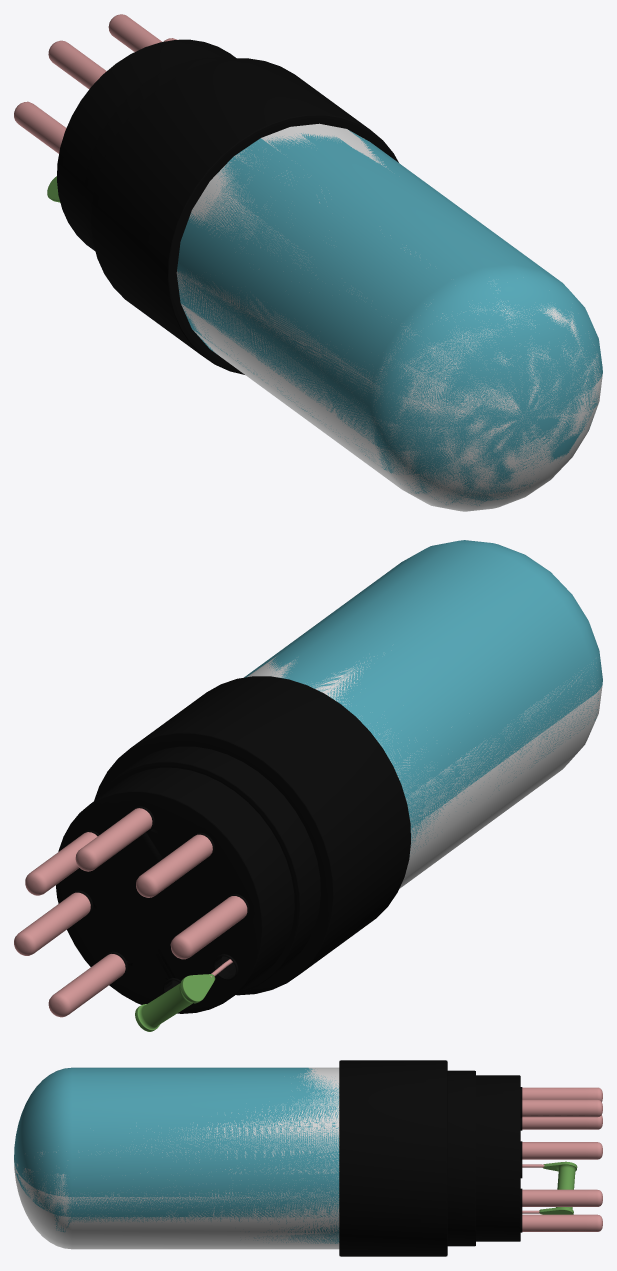
3 renders of one model, top to bottom at view 1: azimuth 30°, elevation 25°; view 2: azimuth 150°, elevation 25°; view 3: azimuth 270°, elevation 25°, orthographic. The views are drawn at different scales.
Visible parts, largest first — view 1: tube6_LOD0, tube6glass_LOD0; view 2: tube6_LOD0, tube6glass_LOD0; view 3: tube6_LOD0, tube6glass_LOD0.
Boxes of the visible parts, x1,y1,x2,y2 form: tube6_LOD0: (14, 14, 602, 505); tube6glass_LOD0: (176, 123, 602, 511); tube6_LOD0: (14, 540, 602, 1031); tube6glass_LOD0: (247, 656, 602, 888); tube6_LOD0: (14, 1060, 602, 1256); tube6glass_LOD0: (14, 1067, 339, 1249).
Size of what is drawn, in the model's own units: 1.52 by 1.52 by 4.58.
